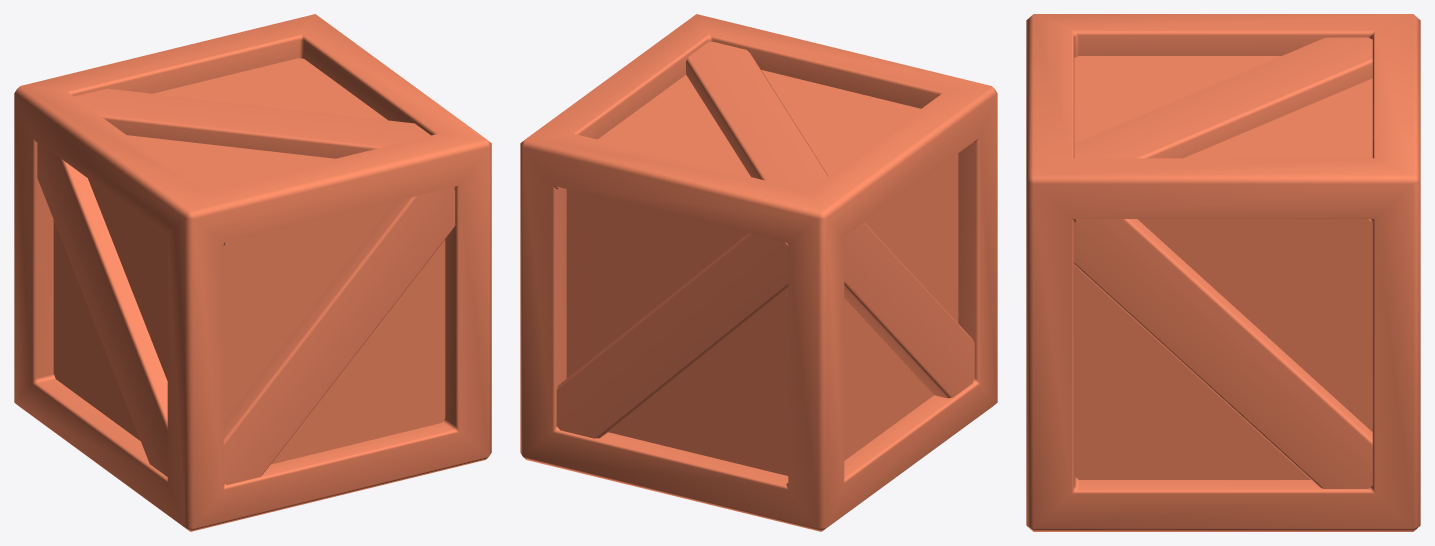
The model's file is City_4_Box_2.glb.
3 renders of one model, left to right at view 1: azimuth 30°, elevation 25°; view 2: azimuth 150°, elevation 25°; view 3: azimuth 270°, elevation 25°, orthographic. The views are drawn at different scales.
Visible parts, largest first — view 1: City_4_Box_2; view 2: City_4_Box_2; view 3: City_4_Box_2.
Boxes of the visible parts, x1=… form: City_4_Box_2: x1=14, y1=14, x2=491, y2=531; City_4_Box_2: x1=520, y1=14, x2=997, y2=531; City_4_Box_2: x1=1026, y1=14, x2=1420, y2=531.
Size of the model in its own units: 0.941 by 0.941 by 0.941.
Materials: 1 (1 with a texture image).
